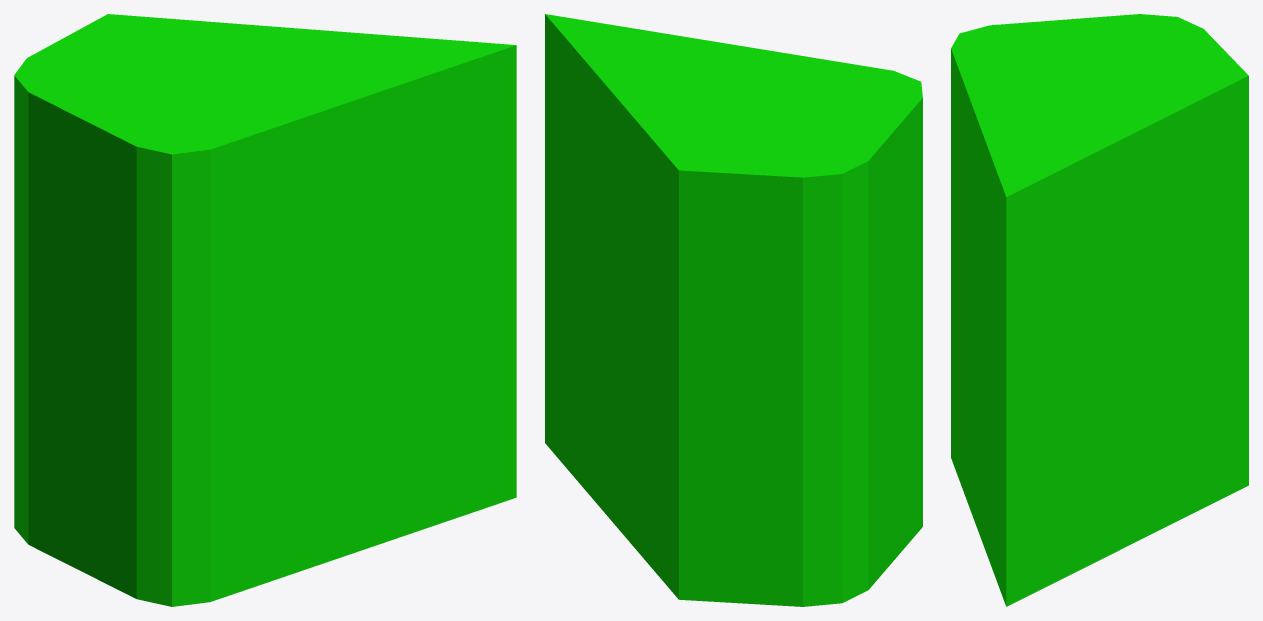
The picture shows the model from 3 angles, left to right: view 1: azimuth 30°, elevation 25°; view 2: azimuth 150°, elevation 25°; view 3: azimuth 270°, elevation 25°; orthographic projection. The views are drawn at different scales.
Parts seen in each view (by area): view 1: Plane.004; view 2: Plane.004; view 3: Plane.004.
Part boxes in pixels (left/top/right/bottom): Plane.004: left=14, top=14, right=516, bottom=606; Plane.004: left=545, top=14, right=922, bottom=606; Plane.004: left=951, top=14, right=1248, bottom=606.
Size of the model in its own units: 852 by 889 by 586.
